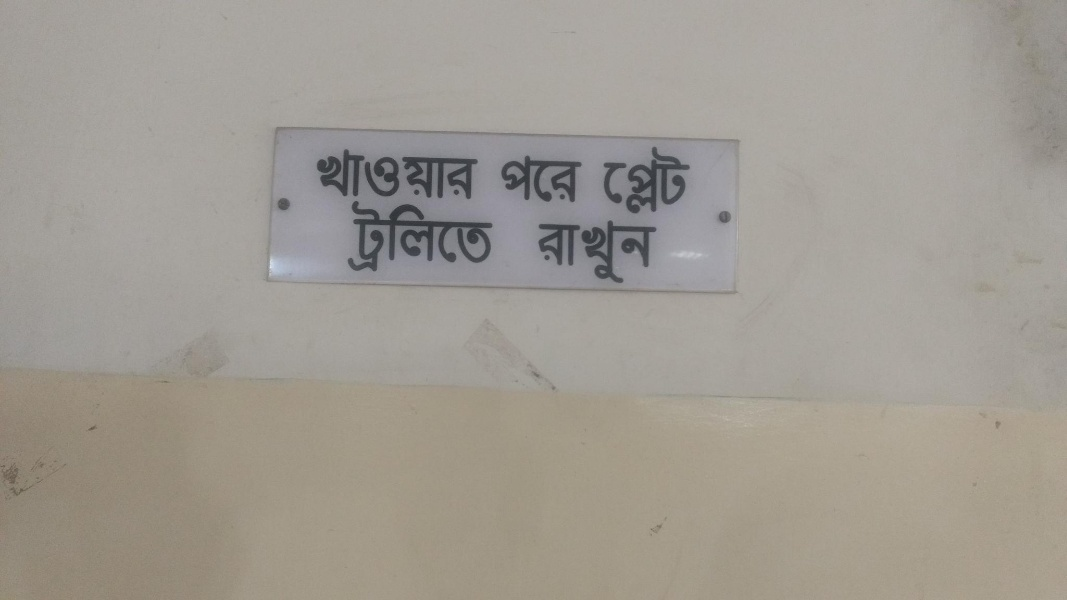text: (353, 202, 368, 279), (369, 202, 384, 279), (385, 202, 400, 279), (401, 202, 416, 279), (417, 202, 432, 279), (433, 202, 448, 279), (449, 202, 464, 279), (465, 202, 480, 279), (609, 144, 624, 217), (625, 144, 640, 217), (641, 144, 656, 217), (657, 144, 672, 217), (673, 144, 688, 217), (545, 219, 560, 289), (561, 219, 576, 289), (577, 219, 592, 289), (593, 219, 608, 289), (609, 219, 624, 289), (625, 219, 640, 289), (641, 219, 656, 289), (465, 150, 481, 206), (481, 202, 492, 279), (321, 150, 336, 206), (337, 150, 352, 206), (353, 150, 368, 206), (369, 150, 384, 206), (385, 150, 400, 206), (401, 150, 416, 206), (417, 150, 432, 206), (433, 150, 448, 206), (449, 150, 464, 206), (497, 153, 512, 203), (513, 153, 528, 203), (529, 153, 544, 203), (545, 153, 560, 203), (561, 153, 576, 203), (689, 144, 698, 217), (657, 219, 664, 289), (538, 219, 544, 289), (577, 153, 581, 203), (317, 150, 320, 206), (350, 202, 352, 279), (606, 144, 608, 217)
